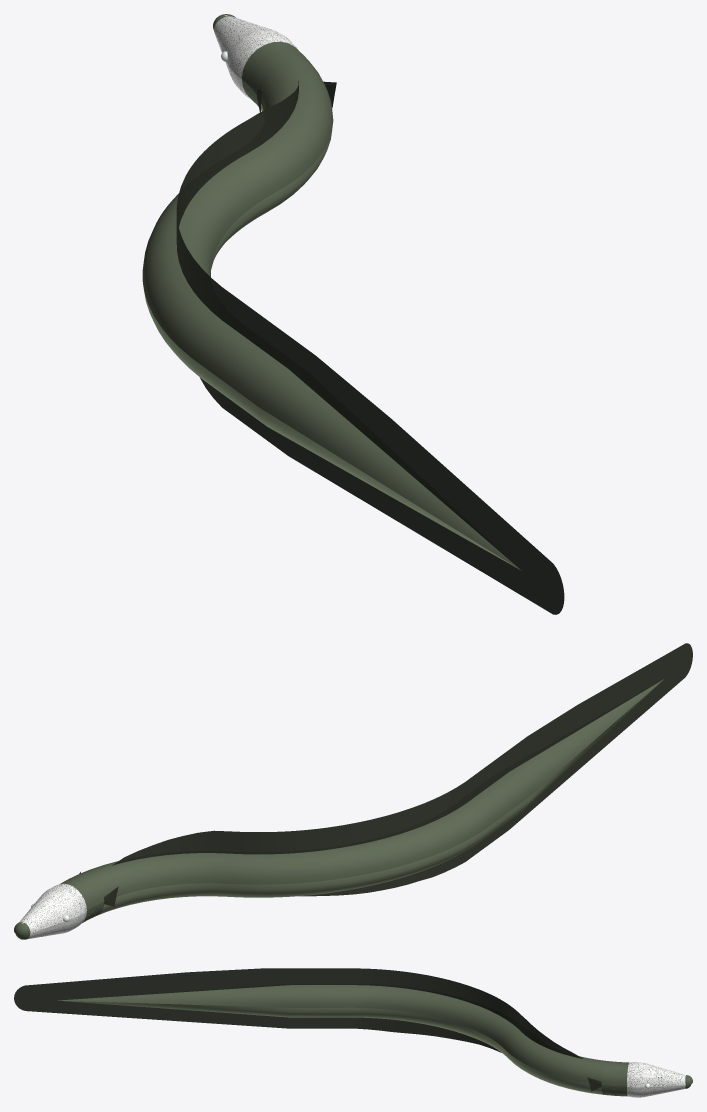
Rendered from eel.dae.
3 views of the same model, one above another, from view 1: azimuth 30°, elevation 25°; view 2: azimuth 150°, elevation 25°; view 3: azimuth 270°, elevation 25° (orthographic). The views are drawn at different scales.
Parts seen in each view (by area): view 1: SketchUp (×4); view 2: SketchUp (×5); view 3: SketchUp (×6).
Boxes of the visible parts, x1,y1,x2,y2 form: SketchUp (×4): [142, 14, 564, 614]; SketchUp (×5): [14, 643, 692, 939]; SketchUp (×6): [14, 968, 692, 1097].
Size of the model in its own units: 19.96 by 60.18 by 5.9.
